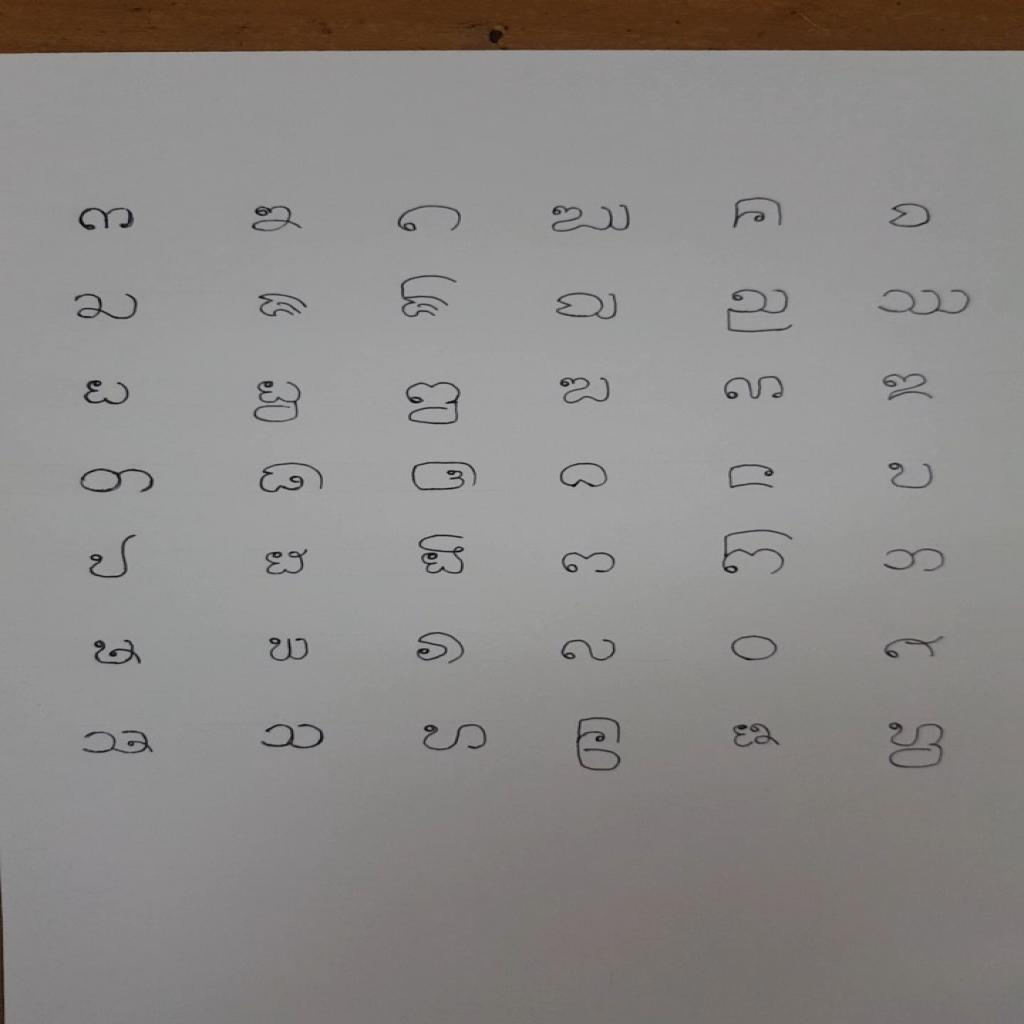LN001: (72, 204, 143, 236)
LN002: (247, 203, 312, 238)
LN003: (392, 202, 470, 236)
LN004: (545, 201, 640, 237)
LN005: (727, 195, 791, 234)
LN006: (885, 200, 940, 232)
LN007: (68, 291, 146, 325)
LN008: (253, 290, 316, 322)
LN009: (396, 272, 463, 322)
LN010: (552, 290, 625, 324)
LN011: (722, 287, 802, 338)
LN012: (872, 286, 979, 320)
LN013: (78, 377, 137, 409)
LN014: (248, 377, 310, 427)
LN015: (399, 379, 469, 429)
LN016: (554, 374, 618, 408)
LN017: (719, 374, 792, 404)
LN018: (876, 371, 940, 404)
LN019: (76, 465, 162, 498)
LN020: (255, 460, 332, 498)
LN021: (407, 459, 486, 495)
LN022: (555, 461, 616, 493)
LN023: (723, 462, 782, 494)
LN024: (884, 461, 942, 493)
LN025: (84, 531, 142, 583)
LN026: (261, 546, 314, 580)
LN027: (415, 532, 472, 580)
LN028: (557, 550, 623, 578)
LN029: (717, 527, 801, 580)
LN030: (877, 546, 953, 577)
LN031: (89, 637, 149, 670)
LN032: (263, 634, 319, 667)
LN033: (409, 629, 472, 669)
LN034: (555, 636, 624, 666)
LN035: (725, 632, 786, 665)
LN036: (878, 632, 952, 664)
LN037: (76, 726, 162, 760)
LN038: (255, 720, 333, 754)
LN039: (415, 719, 496, 756)
LN040: (572, 715, 629, 775)
LN041: (724, 719, 786, 753)
LN042: (878, 719, 954, 773)
